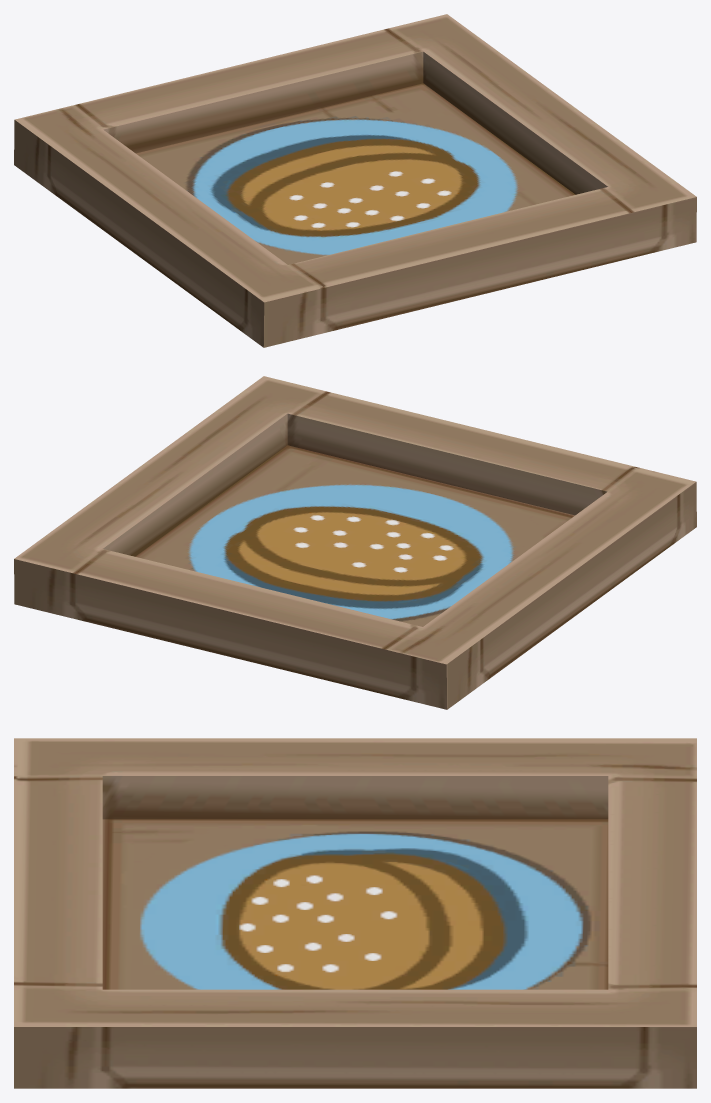
The model's file is CrateLid_Burguer.obj.
3 views of the same model, one above another, from view 1: azimuth 30°, elevation 25°; view 2: azimuth 150°, elevation 25°; view 3: azimuth 270°, elevation 25° (orthographic). The views are drawn at different scales.
Visible parts, largest first — view 1: CrateLid_mesh-sharedassets2.assets-136; view 2: CrateLid_mesh-sharedassets2.assets-136; view 3: CrateLid_mesh-sharedassets2.assets-136.
Part boxes in pixels (left/top/right/bottom): CrateLid_mesh-sharedassets2.assets-136: left=14, top=14, right=696, bottom=347; CrateLid_mesh-sharedassets2.assets-136: left=14, top=376, right=696, bottom=709; CrateLid_mesh-sharedassets2.assets-136: left=14, top=738, right=696, bottom=1088.
Size of the model in its own units: 1 by 0.1 by 1.
